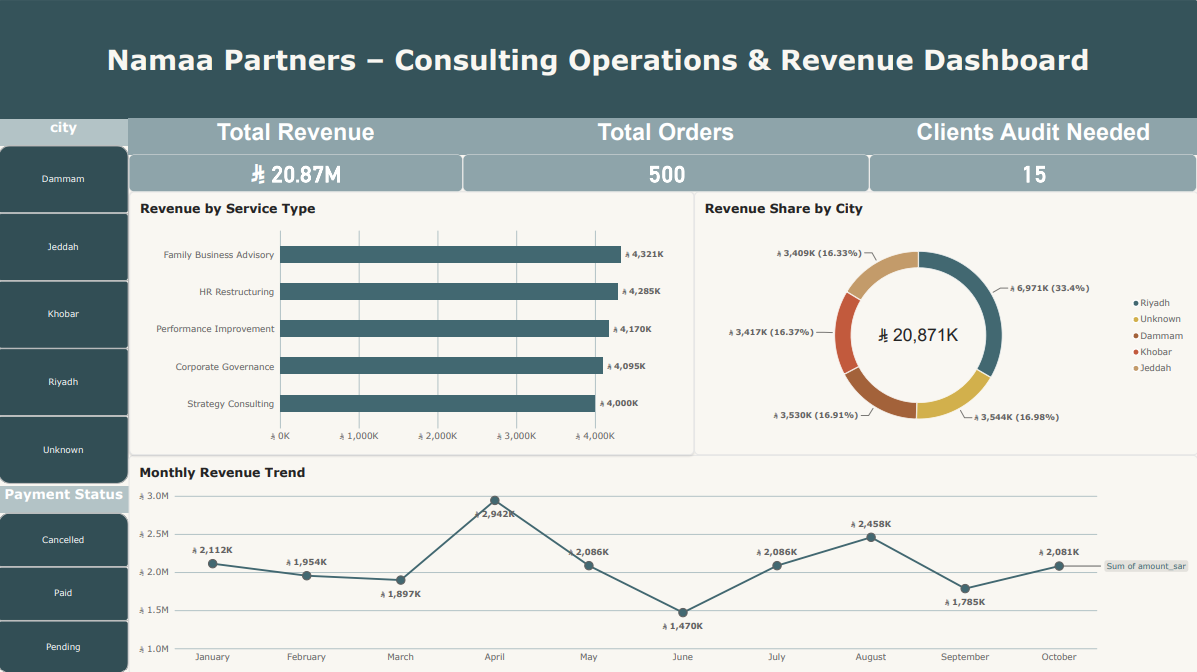

What the dashboard file says about the page in this screenshot:
{"tool":"powerbi","page":{"name":"Page 1","canvas":[1920,1080],"ordinal":0},"visuals":[{"type":"actionButton","box":[0,0,1920.5,190.9],"z":0},{"type":"advancedSlicerVisual","fields":{"Values":["final_consulting_report.city"]},"box":[0,190.4,209.6,586.5],"z":1000},{"type":"advancedSlicerVisual","title":"Payment Status","fields":{"Values":["final_consulting_report.payment_status"]},"box":[0,776.9,209.6,303.8],"z":2000},{"type":"lineChart","title":"Monthly Revenue Trend","fields":{"Category":["final_consulting_report.order_month"],"Y":["Sum(final_consulting_report.amount_sar)"]},"box":[209.1,727.3,1711.4,352.3],"z":3000},{"type":"clusteredBarChart","title":"Revenue by Service Type","fields":{"Category":["final_consulting_report.service_type"],"Y":["Sum(final_consulting_report.amount_sar)"]},"box":[209.6,305.8,903.8,421.2],"z":4000},{"type":"donutChart","title":"Revenue Share by City","fields":{"Category":["final_consulting_report.city"],"Y":["Sum(final_consulting_report.amount_sar)"]},"box":[1113.5,305.8,807.7,421.2],"z":5000},{"type":"cardVisual","title":"Total Revenue","fields":{"Data":["Sum(final_consulting_report.amount_sar)"]},"box":[209.1,188.6,534.1,118.2],"z":5001},{"type":"cardVisual","title":"Total Orders","fields":{"Data":["Count(final_consulting_report.order_id)"]},"box":[743.2,188.6,650,118.2],"z":5002},{"type":"cardVisual","title":"Clients Audit Needed","fields":{"Data":["Count(final_consulting_report.order_id)"]},"box":[1393.2,188.6,525,118.2],"z":5003}]}

Visuals, with their boxes in screenshot pixels (x1, y1, x2, y2), scaled from the page's 1920x1080 canvas onto the 1197x672 screenshot:
actionButton: 0/0/1196/119
advancedSlicerVisual - final_consulting_report.city: 0/118/131/483
"Payment Status" advancedSlicerVisual: 0/483/131/671
"Monthly Revenue Trend" lineChart: 130/453/1196/671
"Revenue by Service Type" clusteredBarChart: 131/190/694/452
"Revenue Share by City" donutChart: 694/190/1196/452
"Total Revenue" cardVisual: 130/117/463/191
"Total Orders" cardVisual: 463/117/869/191
"Clients Audit Needed" cardVisual: 869/117/1196/191
